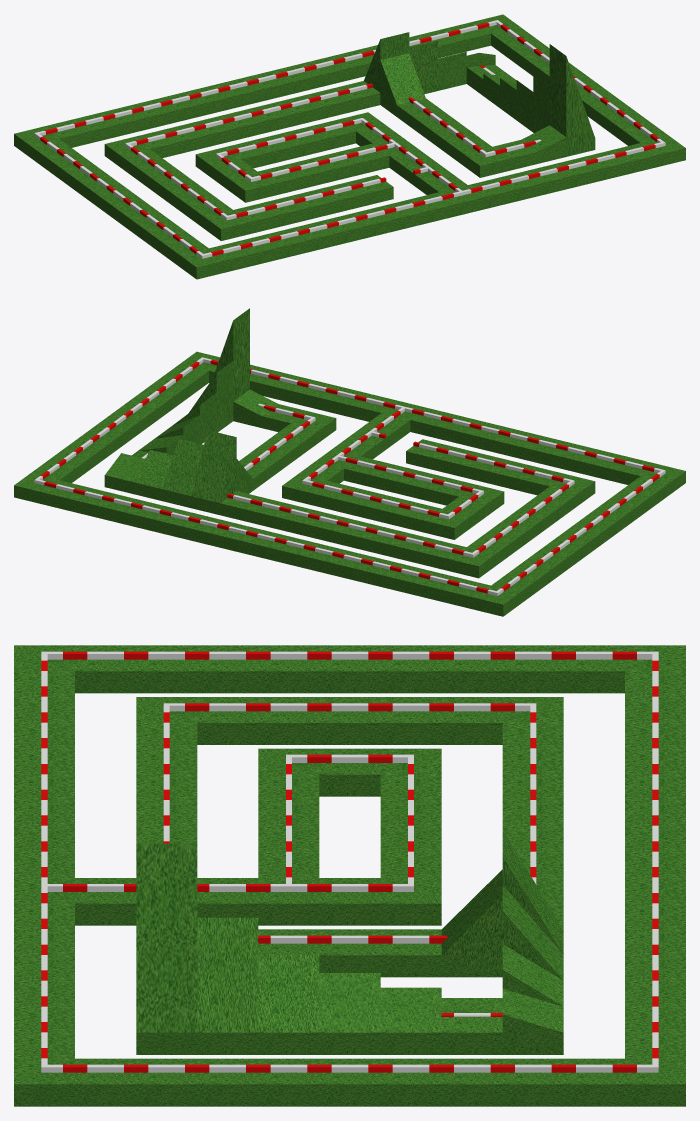
The model's file is Ground16-G.fbx.
The picture shows the model from 3 angles, top to bottom: view 1: azimuth 30°, elevation 25°; view 2: azimuth 150°, elevation 25°; view 3: azimuth 270°, elevation 25°; orthographic projection. The views are drawn at different scales.
Visible parts, largest first — view 1: pCube1933; view 2: pCube1933; view 3: pCube1933.
Part boxes in pixels (<box>): pCube1933: <box>14,14,685,279</box>; pCube1933: <box>14,308,685,616</box>; pCube1933: <box>14,645,685,1106</box>.
Bounding box in the file's own units: 850 × 168 × 550.
